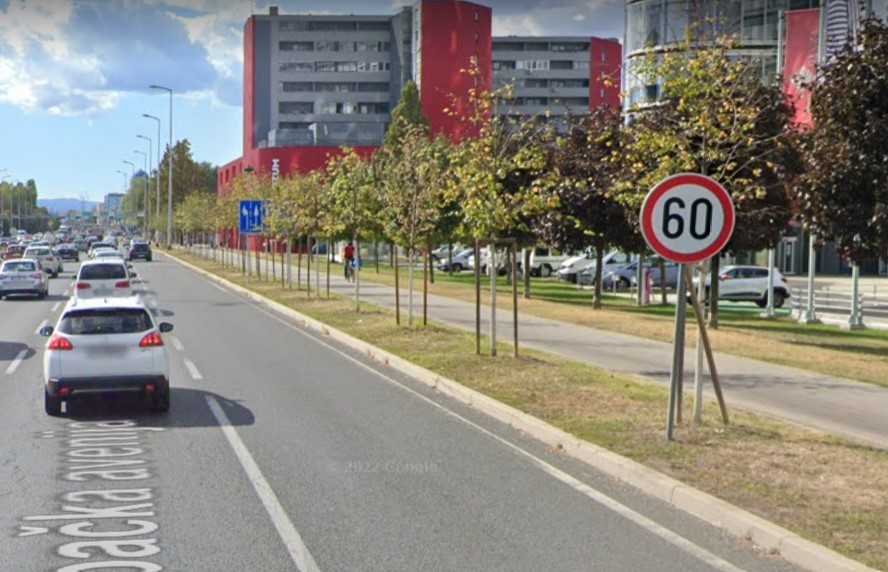Ograničenje brzine 60: (640, 173, 735, 264)
